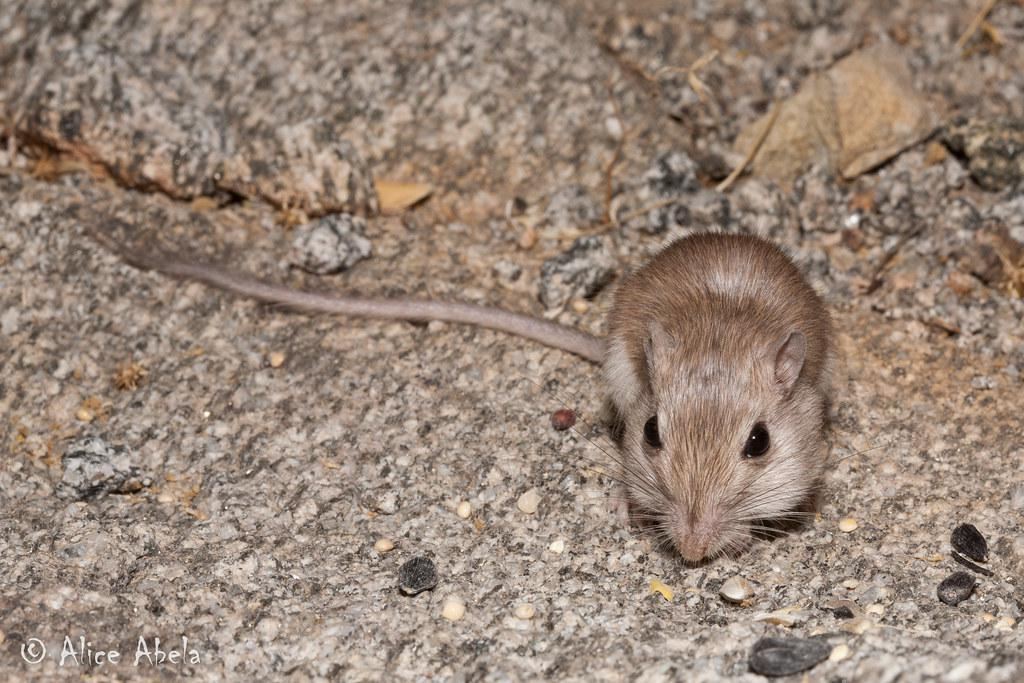rat: (110, 230, 830, 563)
